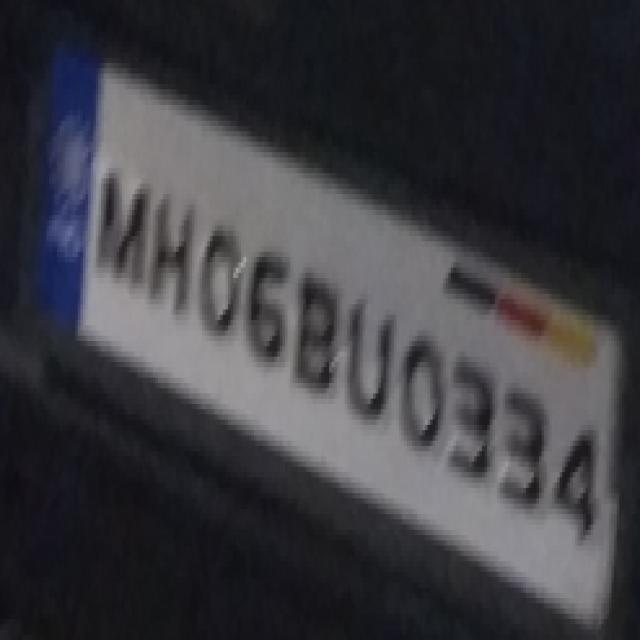0: (200, 199, 246, 358), (398, 320, 444, 446)
3: (448, 338, 496, 478), (502, 374, 548, 520)
6: (248, 228, 292, 365)
B: (296, 252, 342, 404)
H: (550, 394, 606, 548), (152, 178, 198, 324)
M: (96, 164, 152, 296)
U: (346, 268, 394, 431)
